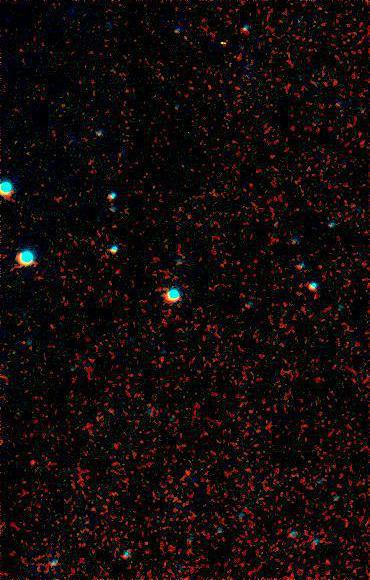star: (17, 447, 47, 477)
